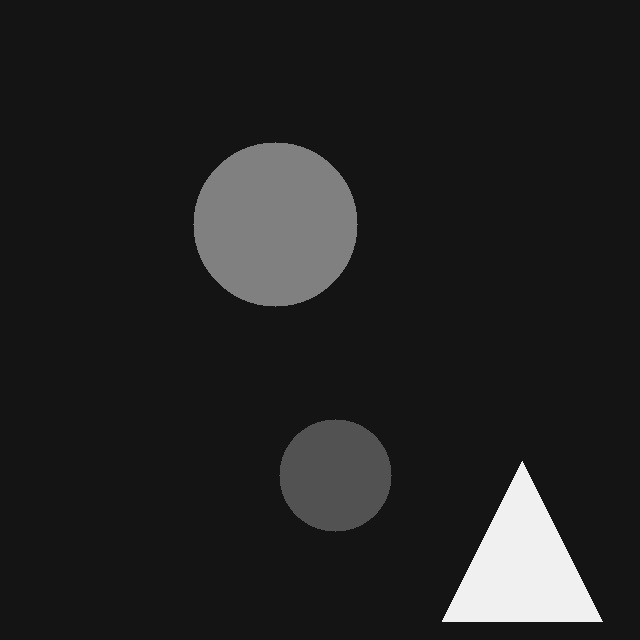circle: (193, 142, 357, 306), (279, 419, 391, 531)
triangle: (442, 461, 602, 621)
